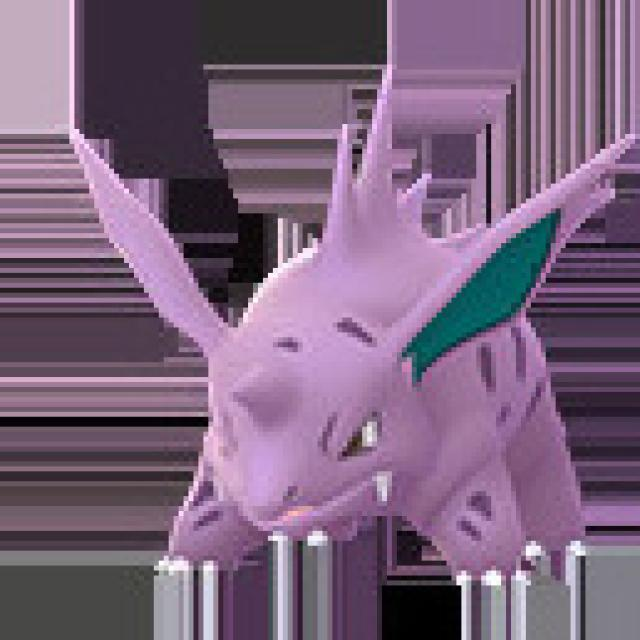Nidorino: (153, 207, 584, 576)
